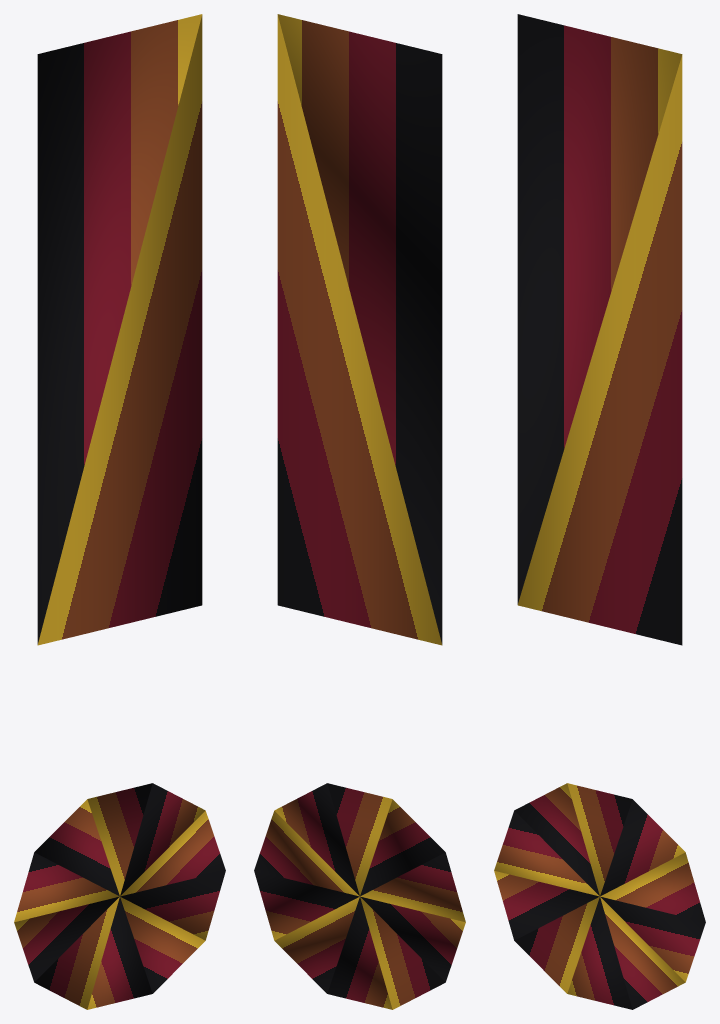
The model's file is bang.glb.
3 renders of one model, left to right at view 1: azimuth 30°, elevation 25°; view 2: azimuth 150°, elevation 25°; view 3: azimuth 330°, elevation 25°, orthographic.
Parts seen in each view (by area): view 1: bang; view 2: bang; view 3: bang.
Part boxes in pixels (left/top/right/bottom): bang: left=14, top=14, right=225, bottom=1009; bang: left=254, top=14, right=465, bottom=1009; bang: left=494, top=14, right=705, bottom=1009.
Size of the model in its own units: 0.18 by 0.7856 by 0.
1 material, 1 textured.
